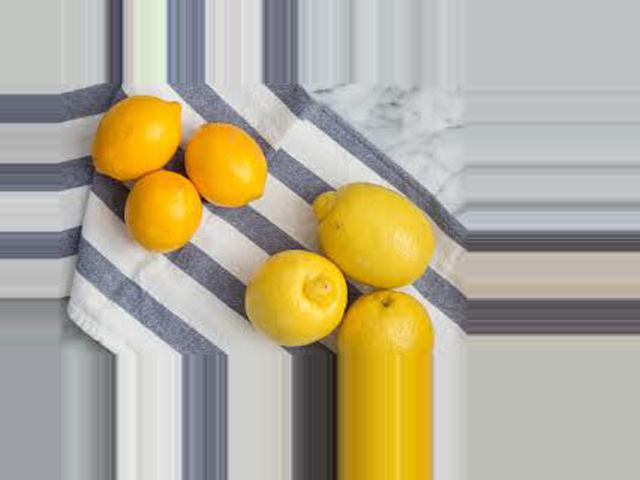lemon: (336, 283, 444, 356)
